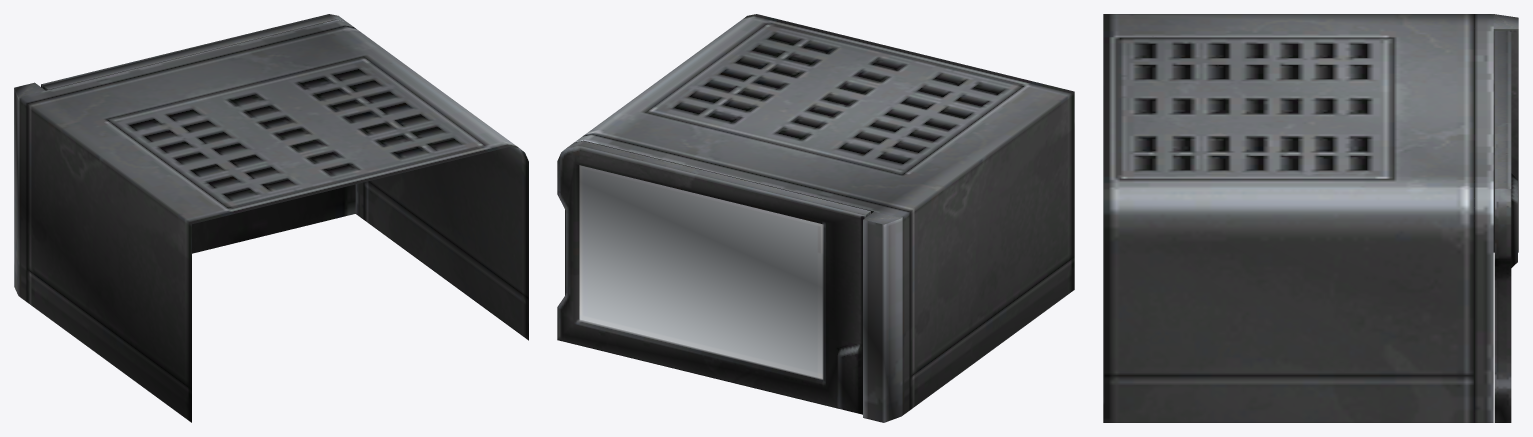
Rendered from mikrowelle.glb.
The picture shows the model from 3 angles, left to right: view 1: azimuth 30°, elevation 25°; view 2: azimuth 150°, elevation 25°; view 3: azimuth 270°, elevation 25°; orthographic projection. The views are drawn at different scales.
Visible parts, largest first — view 1: Box04; view 2: Box04; view 3: Box04.
Part boxes in pixels (x1=…): Box04: x1=14, y1=14, x2=528, y2=422; Box04: x1=557, y1=14, x2=1074, y2=422; Box04: x1=1103, y1=14, x2=1518, y2=422.
Size of the model in its own units: 28.78 by 16.2 by 27.28.
Materials: 1 (1 with a texture image).
